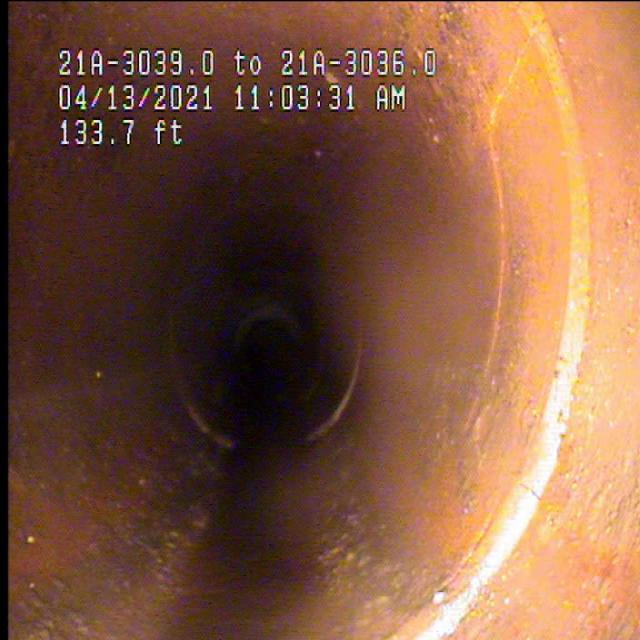Crack: (485, 18, 538, 444)
